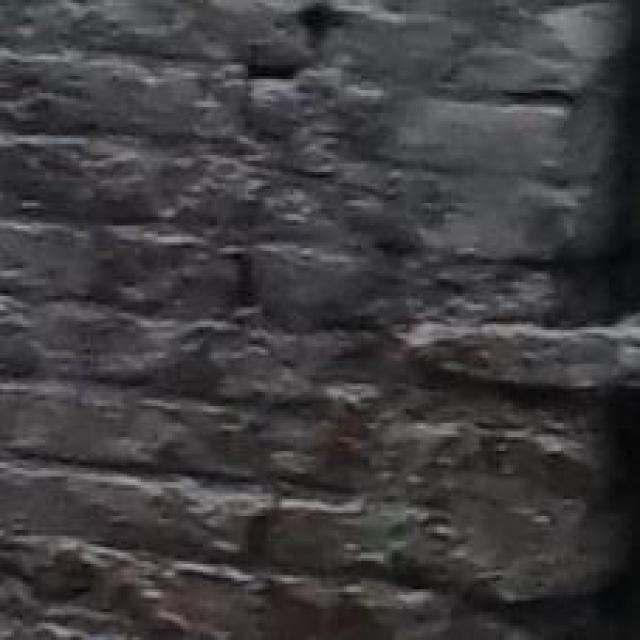Crack: (536, 0, 640, 640), (178, 0, 398, 213)
